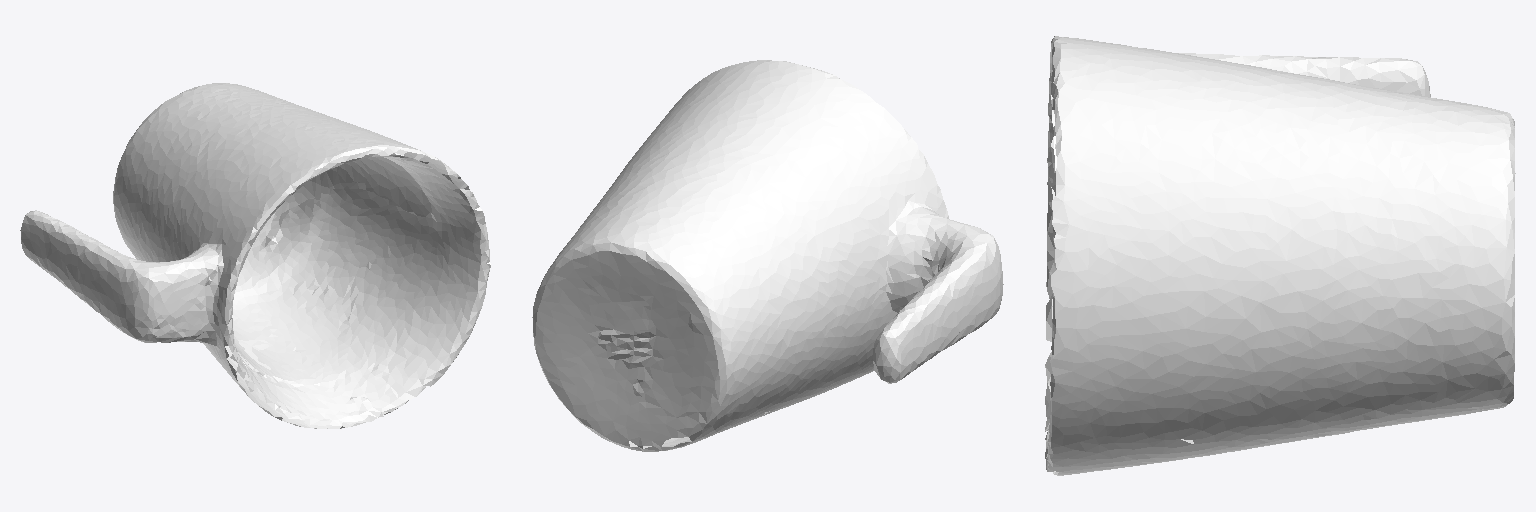
The robot description file, URDF, robot "mug.urdf":
<?xml version="0.0" ?>
<robot name="mug.urdf">
  <link name="mug_link">
  <contact>
      <lateral_friction value="1.5"/>
  </contact>
    <inertial>
      <origin rpy="0 0 0" xyz="0 0 0"/>
       <mass value=".0"/>
       <inertia ixx="0" ixy="0" ixz="0" iyy="0" iyz="0" izz="0"/>
    </inertial>
    <visual>
      <origin rpy="0 0 0" xyz="0 0 0"/>
      <geometry>
				<mesh filename="9_Mug/9_a_Ceramic_mugs/conic_with_open_handle.stl" scale="1 1 1"/>
      </geometry>
       <material name="white">
        <color rgba="1 1 1 1"/>
      </material>
    </visual>
    <collision>
      <origin rpy="0 0 0" xyz="0 0 0"/>
      <geometry>
	 	     <box size="30 30 0.01"/>
      </geometry>
    </collision>
  </link>
</robot>

--- Facts derived from the render (not from the file) ---
Views: 3 orthographic renders of the robot side by side, from view 1: azimuth 30°, elevation 25°; view 2: azimuth 150°, elevation 25°; view 3: azimuth 270°, elevation 25°.
Robot: mug.urdf — 1 links, 0 joints (none); root link mug_link; default pose: all joints at 0.
Links seen in each view (by area): view 1: mug_link; view 2: mug_link; view 3: mug_link.
Boxes of the visible links, <box> form: mug_link: <box>20,83,490,428</box>; mug_link: <box>532,60,1003,451</box>; mug_link: <box>1045,36,1515,475</box>.
Size in the robot's own frame: 116 by 94.56 by 88.43 metres.
1 mesh visuals loaded from 1 distinct referenced files (1 binary STL).